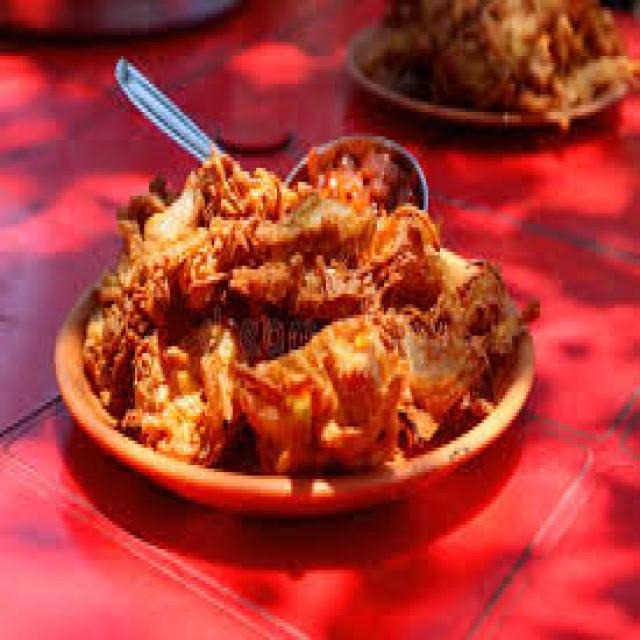BAJI: (236, 309, 423, 486), (192, 153, 312, 330), (86, 239, 194, 424), (138, 324, 249, 467), (308, 221, 455, 319), (401, 276, 513, 403)
